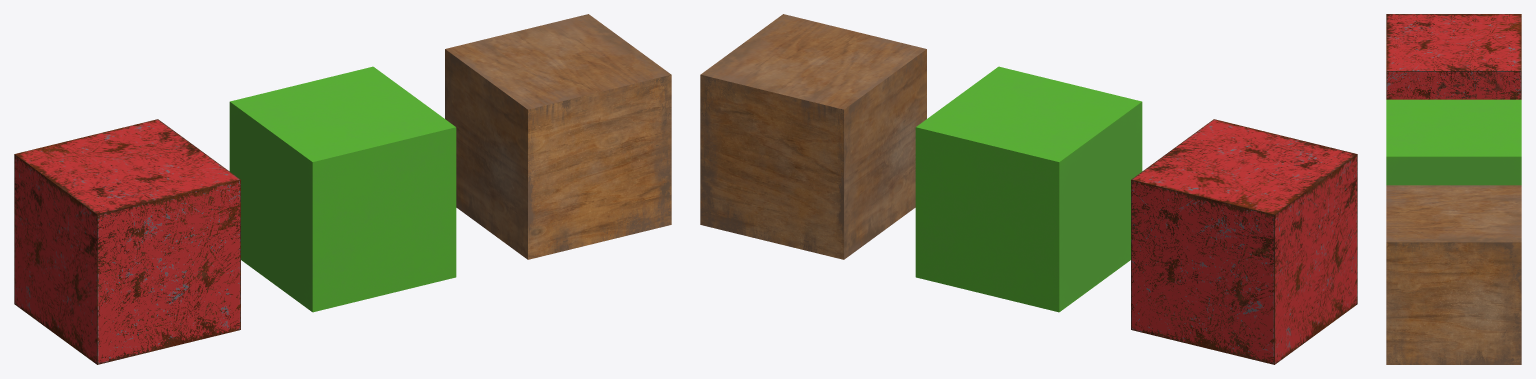
File: HAL_MsTestCube.fbx
3 views of the same model, side by side, from view 1: azimuth 30°, elevation 25°; view 2: azimuth 150°, elevation 25°; view 3: azimuth 270°, elevation 25° (orthographic). The views are drawn at different scales.
Visible parts, largest first — view 1: Metal, Plastic, Wood; view 2: Metal, Plastic, Wood; view 3: Wood, Plastic, Metal.
Part boxes in pixels (bbox=[...]): Metal: bbox=[14, 119, 240, 364]; Plastic: bbox=[229, 66, 456, 312]; Wood: bbox=[445, 14, 671, 259]; Metal: bbox=[1131, 119, 1357, 364]; Plastic: bbox=[915, 66, 1142, 312]; Wood: bbox=[700, 14, 926, 259]; Wood: bbox=[1386, 185, 1521, 364]; Plastic: bbox=[1386, 99, 1521, 185]; Metal: bbox=[1386, 14, 1521, 99].
Bounding box in the file's own units: 800 × 200 × 200.
